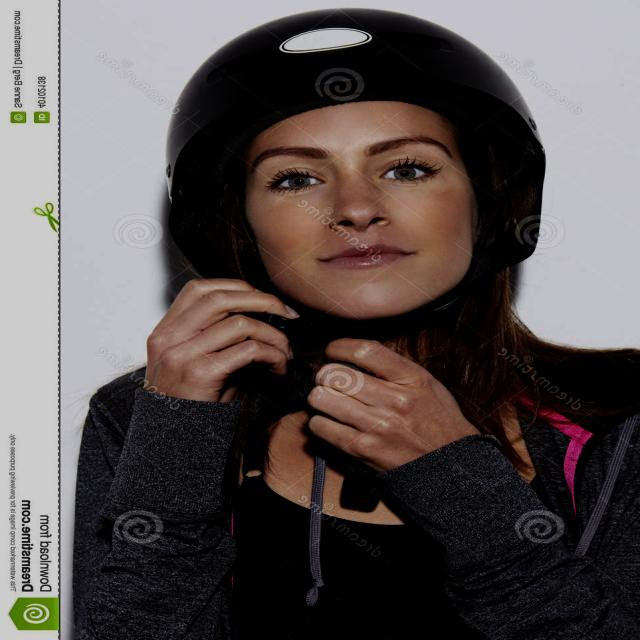helmet: (174, 0, 553, 285)
